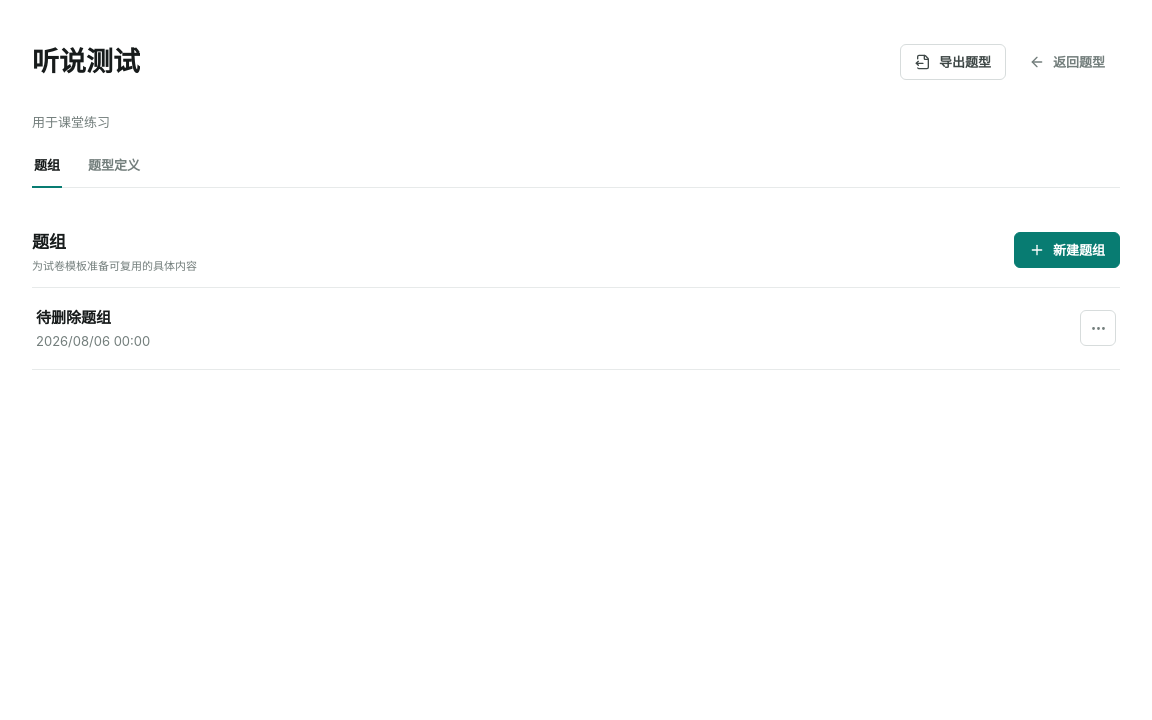
Test: Interface pages › deletes an instance from the details page after confirmation
The width and height of the screenshot is (1152, 720).
expect the button "待删除题组 2026/08/06 00:00" is shown: met, box [36,306,1060,351]
Click the button named "题组操作：待删除题组".
click(1098, 328)  # box [1080,310,1116,346]
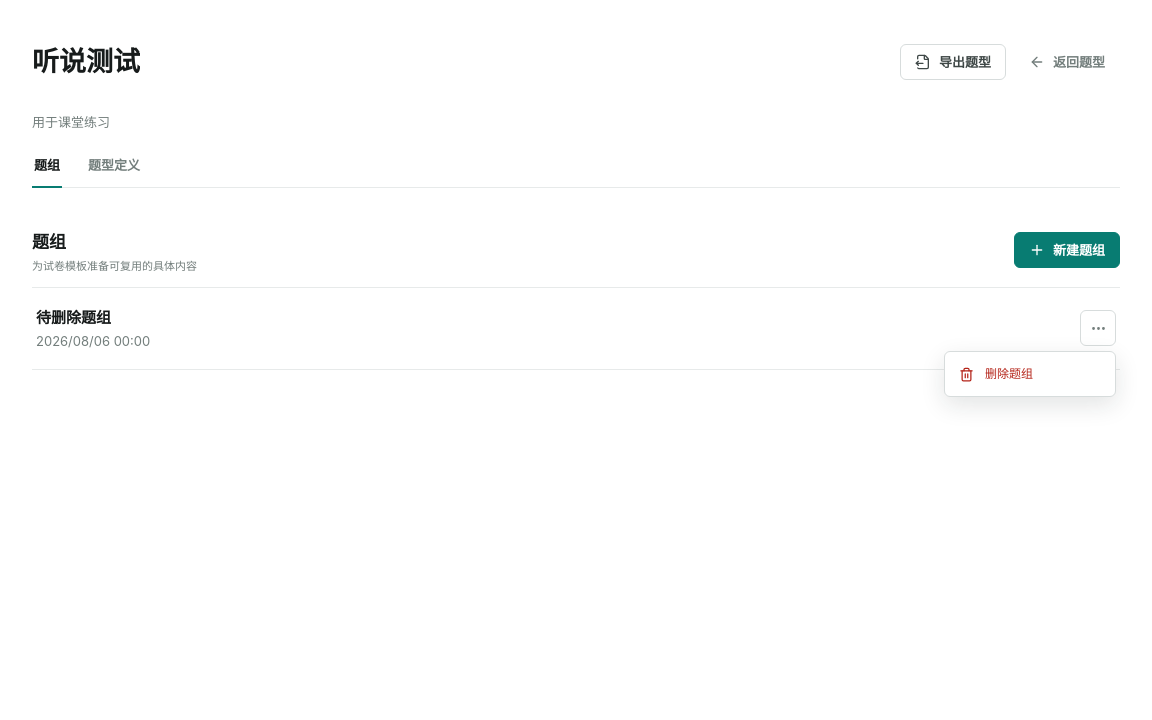
Click the menu item "删除题组".
click(1030, 374)  # box [950,357,1110,391]
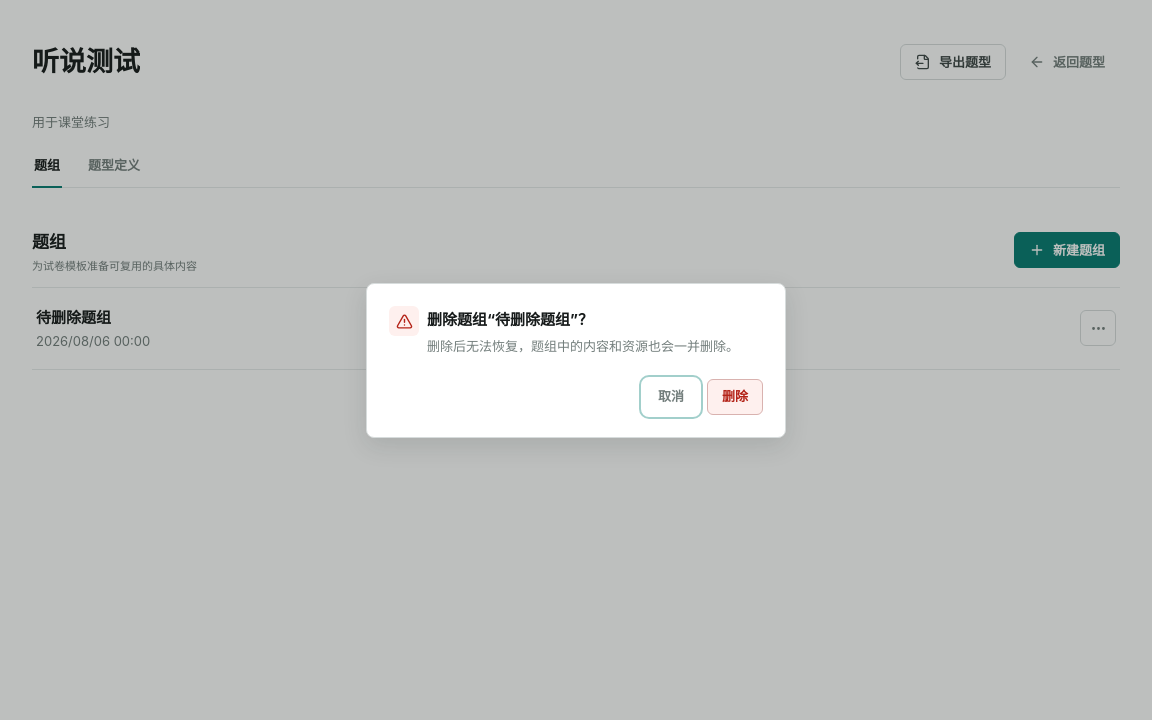
expect the dialog "删除题组“待删除题组”？" is shown: met, box [366,283,786,437]
Click the button "删除".
click(735, 396)  # box [707,378,763,414]
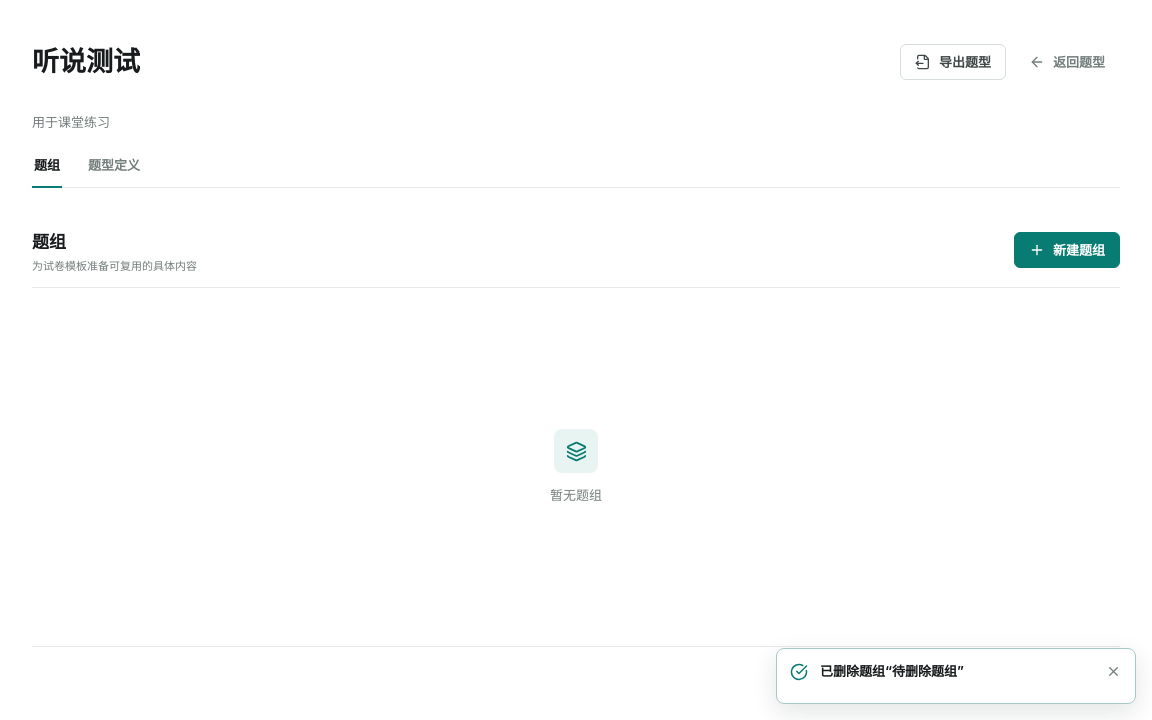
expect the text "暂无题组" is shown: met, box [550,485,602,504]
expect the text "已删除题组“待删除题组”" is shown: met, box [820,663,964,679]
